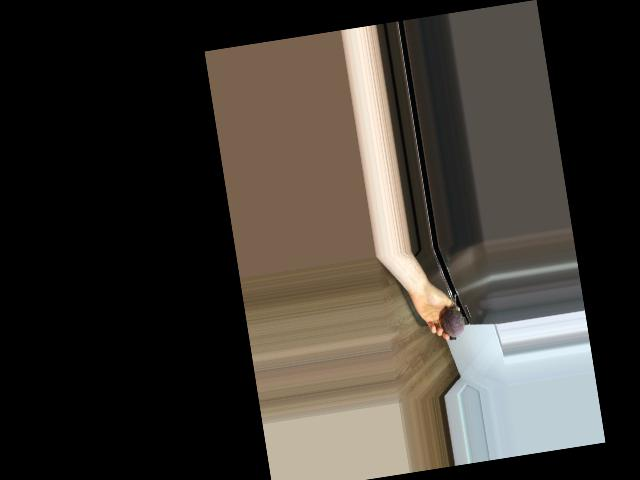beet: (438, 294, 466, 341)
